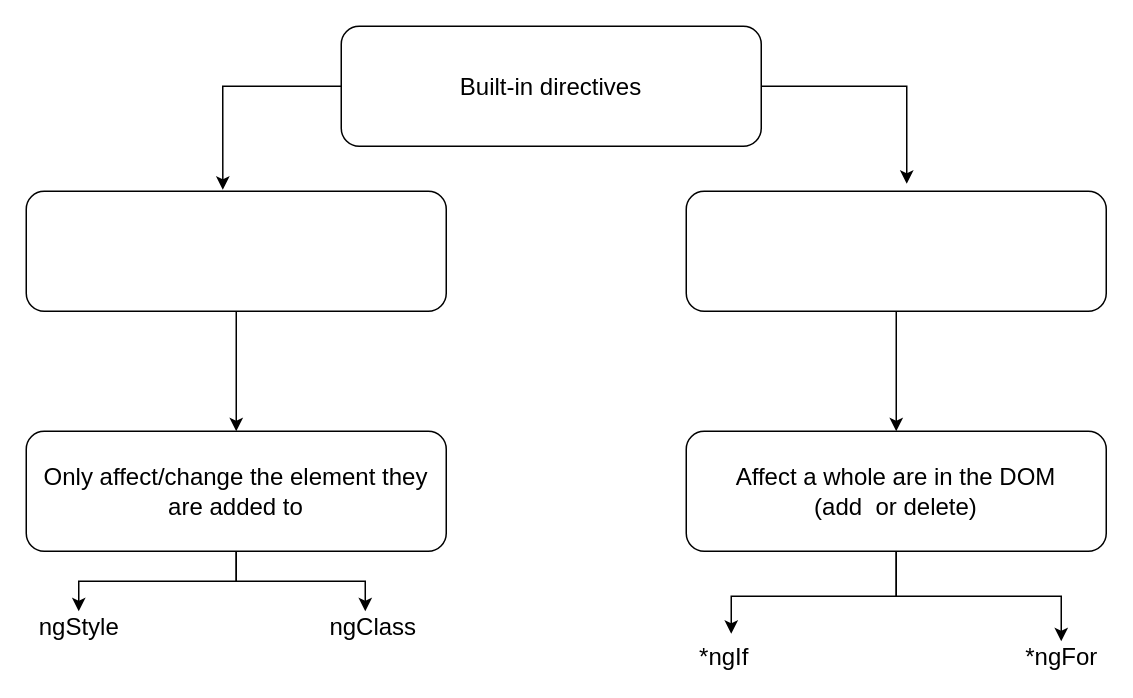
Some shapes in this 1133 by 698 pixel diagram are drawn without their labels. Here are the shapes that lost their labels. From the top down, the centre of each, then its label:
At pixel 235 250: "Attribute Directives".
At pixel 895 250: "Structural Directives ( have a leading *)".
